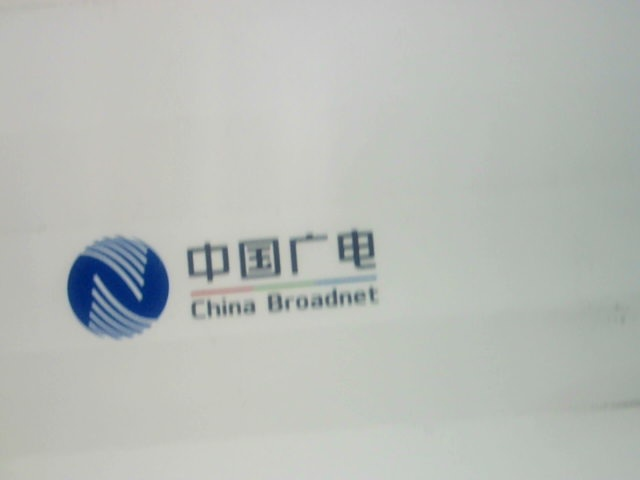AW_ChinaBroadNet: (61, 228, 397, 340)
